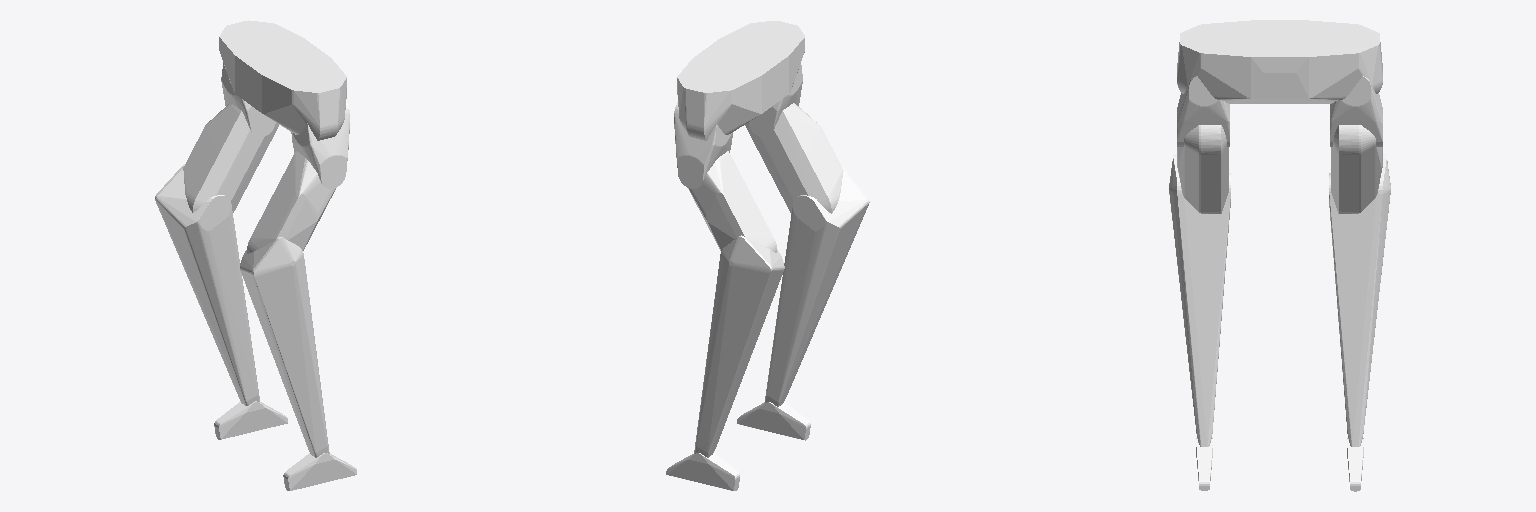
robot.urdf — spryped_urdf_rev04:
<?xml version="1.0" encoding="utf-8"?>
<!-- This URDF was automatically created by SolidWorks to URDF Exporter! Originally created by [author] ([email redacted]) 
     Commit Version: 1.5.1-0-g916b5db  Build Version: 1.5.7152.31018
     For more information, please see http://wiki.ros.org/sw_urdf_exporter -->
<robot
  name="spryped_urdf_rev04">
  <link
    name="body">
    <inertial>
      <origin
        xyz="0.047188 0.0014668 0.07617"
        rpy="0 0 0" />
      <mass
        value="3.7031" />
      <inertia
        ixx="0.0033547"
        ixy="-3.0328E-09"
        ixz="8.3206E-06"
        iyy="0.0042957"
        iyz="-2.3333E-06"
        izz="0.0059126" />
    </inertial>
    <visual>
      <origin
        xyz="0 0 0"
        rpy="0 0 0" />
      <geometry>
        <mesh
          filename="package://spryped_urdf_rev04/meshes/body.STL" />
      </geometry>
      <material
        name="">
        <color
          rgba="1 1 1 1" />
      </material>
    </visual>
    <collision>
      <origin
        xyz="0 0 0"
        rpy="0 0 0" />
      <geometry>
        <mesh
          filename="package://spryped_urdf_rev04/meshes/body.STL" />
      </geometry>
    </collision>
  </link>
  <link
    name="left femur">
    <inertial>
      <origin
        xyz="-0.050952 0.0014637 -0.056842"
        rpy="0 0 0" />
      <mass
        value="0.30999" />
      <inertia
        ixx="0.00070116"
        ixy="9.483E-08"
        ixz="-3.5726E-05"
        iyy="0.00069104"
        iyz="3.5642E-05"
        izz="0.00059024" />
    </inertial>
    <visual>
      <origin
        xyz="0 0 0"
        rpy="0 0 0" />
      <geometry>
        <mesh
          filename="package://spryped_urdf_rev04/meshes/left femur.STL" />
      </geometry>
      <material
        name="">
        <color
          rgba="1 1 1 1" />
      </material>
    </visual>
    <collision>
      <origin
        xyz="0 0 0"
        rpy="0 0 0" />
      <geometry>
        <mesh
          filename="package://spryped_urdf_rev04/meshes/left femur.STL" />
      </geometry>
    </collision>
  </link>
  <joint
    name="1"
    type="revolute">
    <origin
      xyz="0.10347 0.14547 0.055904"
      rpy="0 0 0" />
    <parent
      link="body" />
    <child
      link="left femur" />
    <axis
      xyz="1 0 0" />
    <limit
      lower="-3.14"
      upper="3.14"
      effort="0"
      velocity="0" />
  </joint>
  <link
    name="left tibiotarsus">
    <inertial>
      <origin
        xyz="-0.053242 0.049182 -0.084078"
        rpy="0 0 0" />
      <mass
        value="2.8758" />
      <inertia
        ixx="0.0035016"
        ixy="-7.3784E-08"
        ixz="-0.0014858"
        iyy="0.0053353"
        iyz="-1.1012E-07"
        izz="0.0022528" />
    </inertial>
    <visual>
      <origin
        xyz="0 0 0"
        rpy="0 0 0" />
      <geometry>
        <mesh
          filename="package://spryped_urdf_rev04/meshes/left tibiotarsus.STL" />
      </geometry>
      <material
        name="">
        <color
          rgba="1 1 1 1" />
      </material>
    </visual>
    <collision>
      <origin
        xyz="0 0 0"
        rpy="0 0 0" />
      <geometry>
        <mesh
          filename="package://spryped_urdf_rev04/meshes/left tibiotarsus.STL" />
      </geometry>
    </collision>
  </link>
  <joint
    name="2"
    type="revolute">
    <origin
      xyz="-0.05165 -0.04965 -0.114"
      rpy="0 0 0" />
    <parent
      link="left femur" />
    <child
      link="left tibiotarsus" />
    <axis
      xyz="0 -1 0" />
    <limit
      lower="-3.14"
      upper="3.14"
      effort="0"
      velocity="0" />
  </joint>
  <link
    name="left tarsometatarsus">
    <inertial>
      <origin
        xyz="-0.0036812 0.065488 -0.10572"
        rpy="0 0 0" />
      <mass
        value="0.38839" />
      <inertia
        ixx="0.0015066"
        ixy="-3.4483E-05"
        ixz="0.00031981"
        iyy="0.0015965"
        iyz="-3.1686E-05"
        izz="0.00055742" />
    </inertial>
    <visual>
      <origin
        xyz="0 0 0"
        rpy="0 0 0" />
      <geometry>
        <mesh
          filename="package://spryped_urdf_rev04/meshes/left tarsometatarsus.STL" />
      </geometry>
      <material
        name="">
        <color
          rgba="1 1 1 1" />
      </material>
    </visual>
    <collision>
      <origin
        xyz="0 0 0"
        rpy="0 0 0" />
      <geometry>
        <mesh
          filename="package://spryped_urdf_rev04/meshes/left tarsometatarsus.STL" />
      </geometry>
    </collision>
  </link>
  <joint
    name="3"
    type="revolute">
    <origin
      xyz="-0.10545 -0.0005 -0.16876"
      rpy="0 0 0" />
    <parent
      link="left tibiotarsus" />
    <child
      link="left tarsometatarsus" />
    <axis
      xyz="0 -1 0" />
    <limit
      lower="-3.14"
      upper="3.14"
      effort="0"
      velocity="0" />
  </joint>
  <link
    name="left toe">
    <inertial>
      <origin
        xyz="-0.024654 0.0055 -0.037699"
        rpy="0 0 0" />
      <mass
        value="0.11189" />
      <inertia
        ixx="3.2605E-05"
        ixy="7.6214E-13"
        ixz="1.9901E-06"
        iyy="0.00021756"
        iyz="8.8251E-14"
        izz="0.00019521" />
    </inertial>
    <visual>
      <origin
        xyz="0 0 0"
        rpy="0 0 0" />
      <geometry>
        <mesh
          filename="package://spryped_urdf_rev04/meshes/left toe.STL" />
      </geometry>
      <material
        name="">
        <color
          rgba="1 1 1 1" />
      </material>
    </visual>
    <collision>
      <origin
        xyz="0 0 0"
        rpy="0 0 0" />
      <geometry>
        <mesh
          filename="package://spryped_urdf_rev04/meshes/left toe.STL" />
      </geometry>
    </collision>
  </link>
  <joint
    name="4"
    type="revolute">
    <origin
      xyz="0.12296 0.0444 -0.48273"
      rpy="0 0 0" />
    <parent
      link="left tarsometatarsus" />
    <child
      link="left toe" />
    <axis
      xyz="0 -1 0" />
    <limit
      lower="-3.14"
      upper="3.14"
      effort="0"
      velocity="0" />
  </joint>
  <link
    name="right femur">
    <inertial>
      <origin
        xyz="-0.050952 -0.0014638 -0.056842"
        rpy="0 0 0" />
      <mass
        value="0.30999" />
      <inertia
        ixx="0.00070116"
        ixy="-9.5179E-08"
        ixz="-3.5726E-05"
        iyy="0.00069104"
        iyz="-3.5642E-05"
        izz="0.00059025" />
    </inertial>
    <visual>
      <origin
        xyz="0 0 0"
        rpy="0 0 0" />
      <geometry>
        <mesh
          filename="package://spryped_urdf_rev04/meshes/right femur.STL" />
      </geometry>
      <material
        name="">
        <color
          rgba="1 1 1 1" />
      </material>
    </visual>
    <collision>
      <origin
        xyz="0 0 0"
        rpy="0 0 0" />
      <geometry>
        <mesh
          filename="package://spryped_urdf_rev04/meshes/right femur.STL" />
      </geometry>
    </collision>
  </link>
  <joint
    name="5"
    type="revolute">
    <origin
      xyz="0.10347 -0.14253 0.055904"
      rpy="0 0 0" />
    <parent
      link="body" />
    <child
      link="right femur" />
    <axis
      xyz="1 0 0" />
    <limit
      lower="-3.14"
      upper="3.14"
      effort="0"
      velocity="0" />
  </joint>
  <link
    name="right tibiotarsus">
    <inertial>
      <origin
        xyz="-0.053316 -0.049249 -0.084108"
        rpy="0 0 0" />
      <mass
        value="2.8758" />
      <inertia
        ixx="0.0035003"
        ixy="7.13E-08"
        ixz="-0.0014845"
        iyy="0.0053353"
        iyz="1.224E-07"
        izz="0.0022541" />
    </inertial>
    <visual>
      <origin
        xyz="0 0 0"
        rpy="0 0 0" />
      <geometry>
        <mesh
          filename="package://spryped_urdf_rev04/meshes/right tibiotarsus.STL" />
      </geometry>
      <material
        name="">
        <color
          rgba="1 1 1 1" />
      </material>
    </visual>
    <collision>
      <origin
        xyz="0 0 0"
        rpy="0 0 0" />
      <geometry>
        <mesh
          filename="package://spryped_urdf_rev04/meshes/right tibiotarsus.STL" />
      </geometry>
    </collision>
  </link>
  <joint
    name="6"
    type="revolute">
    <origin
      xyz="-0.05165 0.04965 -0.114"
      rpy="0 0 0" />
    <parent
      link="right femur" />
    <child
      link="right tibiotarsus" />
    <axis
      xyz="0 1 0" />
    <limit
      lower="-3.14"
      upper="3.14"
      effort="0"
      velocity="0" />
  </joint>
  <link
    name="right tarsometatarsus">
    <inertial>
      <origin
        xyz="-0.0041821 -0.065487 -0.10613"
        rpy="0 0 0" />
      <mass
        value="0.38839" />
      <inertia
        ixx="0.0015087"
        ixy="3.4579E-05"
        ixz="0.00031421"
        iyy="0.0015965"
        iyz="3.1581E-05"
        izz="0.00055528" />
    </inertial>
    <visual>
      <origin
        xyz="0 0 0"
        rpy="0 0 0" />
      <geometry>
        <mesh
          filename="package://spryped_urdf_rev04/meshes/right tarsometatarsus.STL" />
      </geometry>
      <material
        name="">
        <color
          rgba="1 1 1 1" />
      </material>
    </visual>
    <collision>
      <origin
        xyz="0 0 0"
        rpy="0 0 0" />
      <geometry>
        <mesh
          filename="package://spryped_urdf_rev04/meshes/right tarsometatarsus.STL" />
      </geometry>
    </collision>
  </link>
  <joint
    name="7"
    type="revolute">
    <origin
      xyz="-0.10545 0.0005 -0.16876"
      rpy="0 0 0" />
    <parent
      link="right tibiotarsus" />
    <child
      link="right tarsometatarsus" />
    <axis
      xyz="0 1 0" />
    <limit
      lower="-3.14"
      upper="3.14"
      effort="0"
      velocity="0" />
  </joint>
  <link
    name="right toe">
    <inertial>
      <origin
        xyz="-0.0086389 -0.016 -0.031995"
        rpy="0 0 0" />
      <mass
        value="0.11189" />
      <inertia
        ixx="3.2605E-05"
        ixy="7.6214E-13"
        ixz="1.9901E-06"
        iyy="0.00021756"
        iyz="8.8251E-14"
        izz="0.00019521" />
    </inertial>
    <visual>
      <origin
        xyz="0 0 0"
        rpy="0 0 0" />
      <geometry>
        <mesh
          filename="package://spryped_urdf_rev04/meshes/right toe.STL" />
      </geometry>
      <material
        name="">
        <color
          rgba="1 1 1 1" />
      </material>
    </visual>
    <collision>
      <origin
        xyz="0 0 0"
        rpy="0 0 0" />
      <geometry>
        <mesh
          filename="package://spryped_urdf_rev04/meshes/right toe.STL" />
      </geometry>
    </collision>
  </link>
  <joint
    name="8"
    type="revolute">
    <origin
      xyz="0.10545 -0.0339 -0.48875"
      rpy="0 0 0" />
    <parent
      link="right tarsometatarsus" />
    <child
      link="right toe" />
    <axis
      xyz="0 -1 0" />
    <limit
      lower="-3.14"
      upper="3.14"
      effort="0"
      velocity="0" />
  </joint>
</robot>

--- Facts derived from the render (not from the file) ---
3 views of the same robot in one strip: view 1: azimuth 30°, elevation 25°; view 2: azimuth 150°, elevation 25°; view 3: azimuth 270°, elevation 25° (orthographic).
Model spryped_urdf_rev04 with 9 links and 8 joints (8 revolute), rooted at body, posed every joint at zero.
Links seen in each view (by area): view 1: body, left tarsometatarsus, right tarsometatarsus, left tibiotarsus, right tibiotarsus, right femur, left toe, right toe, left femur; view 2: body, right tarsometatarsus, left tarsometatarsus, right tibiotarsus, left tibiotarsus, left femur, left toe, right toe, right femur; view 3: body, left tarsometatarsus, right tarsometatarsus, left tibiotarsus, right tibiotarsus, left femur, right femur, left toe, right toe.
Boxes of the visible links, x1=… form: body: x1=219, y1=20, x2=346, y2=140; left tarsometatarsus: x1=155, y1=164, x2=259, y2=405; right tarsometatarsus: x1=240, y1=237, x2=329, y2=457; left tibiotarsus: x1=183, y1=103, x2=278, y2=212; right tibiotarsus: x1=247, y1=151, x2=335, y2=253; right femur: x1=291, y1=102, x2=349, y2=188; left toe: x1=214, y1=401, x2=287, y2=439; right toe: x1=283, y1=453, x2=356, y2=490; left femur: x1=221, y1=63, x2=275, y2=136; body: x1=677, y1=21, x2=804, y2=140; right tarsometatarsus: x1=765, y1=166, x2=869, y2=406; left tarsometatarsus: x1=694, y1=235, x2=784, y2=457; right tibiotarsus: x1=745, y1=103, x2=843, y2=213; left tibiotarsus: x1=688, y1=151, x2=776, y2=252; left femur: x1=674, y1=102, x2=732, y2=188; left toe: x1=666, y1=453, x2=739, y2=490; right toe: x1=737, y1=402, x2=810, y2=440; right femur: x1=748, y1=64, x2=802, y2=136; body: x1=1177, y1=20, x2=1382, y2=103; left tarsometatarsus: x1=1329, y1=155, x2=1390, y2=446; right tarsometatarsus: x1=1169, y1=155, x2=1230, y2=446; left tibiotarsus: x1=1331, y1=125, x2=1382, y2=213; right tibiotarsus: x1=1177, y1=125, x2=1228, y2=213; left femur: x1=1330, y1=76, x2=1382, y2=146; right femur: x1=1177, y1=76, x2=1229, y2=146; left toe: x1=1347, y1=438, x2=1363, y2=491; right toe: x1=1196, y1=438, x2=1212, y2=490.
Size in the robot's own frame: 0.2769 by 0.4222 by 0.9105 metres.
9 mesh visuals loaded from 9 distinct referenced files (9 binary STL).